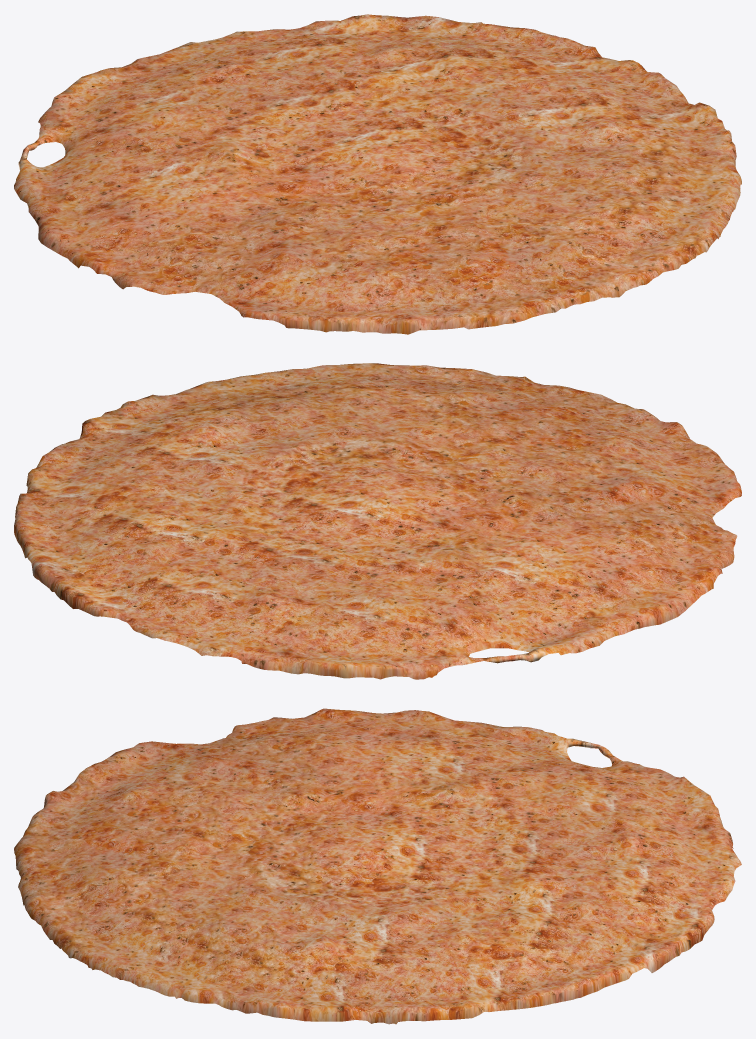
File: cheese spread.fbx
3 views of the same model, one above another, from view 1: azimuth 30°, elevation 25°; view 2: azimuth 150°, elevation 25°; view 3: azimuth 270°, elevation 25° (orthographic).
Parts seen in each view (by area): view 1: Cheese; view 2: Cheese; view 3: Cheese.
Boxes of the visible parts, x1=… form: Cheese: x1=14, y1=14, x2=741, y2=334; Cheese: x1=14, y1=363, x2=741, y2=679; Cheese: x1=14, y1=708, x2=741, y2=1024.
Bounding box in the file's own units: 52.16 × 2.61 × 52.08.
